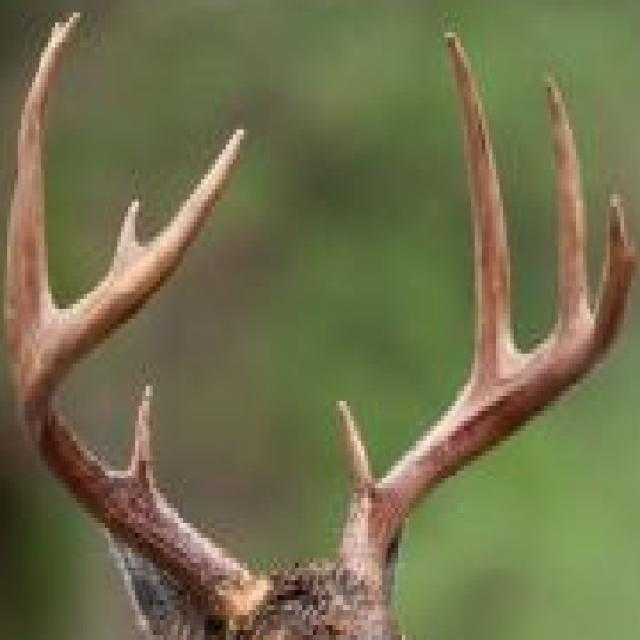L-F: (340, 181, 637, 603)
L-G1: (334, 392, 380, 505)
L-G2: (435, 27, 516, 385)
L-G3: (545, 61, 592, 329)
R-F: (15, 123, 273, 635)
R-G1: (126, 377, 157, 490)
R-G2: (3, 8, 88, 398)
R-G3: (110, 196, 142, 273)
